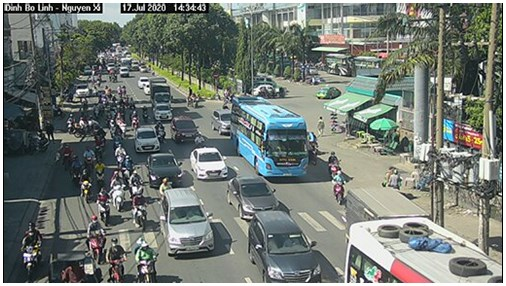di_bo: (317, 114, 325, 136)
xe_ba_gac: (45, 251, 103, 286), (186, 89, 202, 109), (109, 69, 117, 84)
xe_buyt: (229, 95, 310, 181)
xe_hoi: (245, 210, 325, 283), (159, 189, 214, 258), (225, 176, 281, 219), (146, 152, 185, 189), (190, 147, 229, 181), (170, 116, 200, 145), (210, 109, 234, 135), (316, 84, 341, 101), (152, 103, 173, 122), (73, 84, 90, 98)
xe_may: (19, 220, 44, 282), (132, 239, 160, 283), (83, 215, 105, 261), (108, 237, 126, 282), (131, 191, 148, 231), (97, 186, 113, 226), (109, 170, 124, 212), (66, 154, 84, 189), (330, 171, 347, 206), (326, 150, 345, 179), (79, 168, 93, 203), (88, 135, 106, 161), (129, 170, 146, 197), (59, 140, 72, 170), (95, 160, 106, 186), (113, 142, 124, 166), (64, 109, 74, 135), (131, 108, 141, 133), (156, 121, 165, 146)
